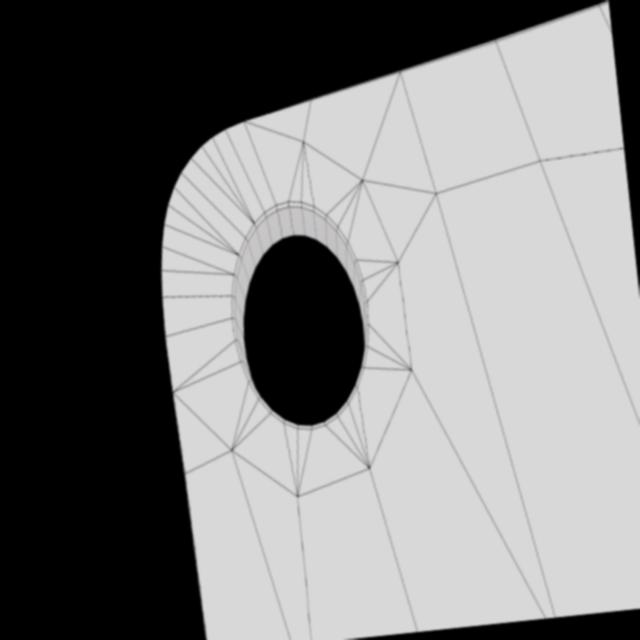cleaver: (135, 0, 640, 640)
